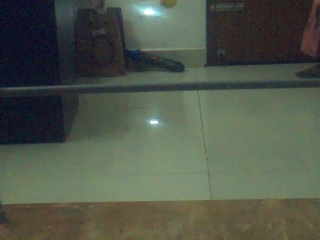ball: (160, 0, 176, 8)
